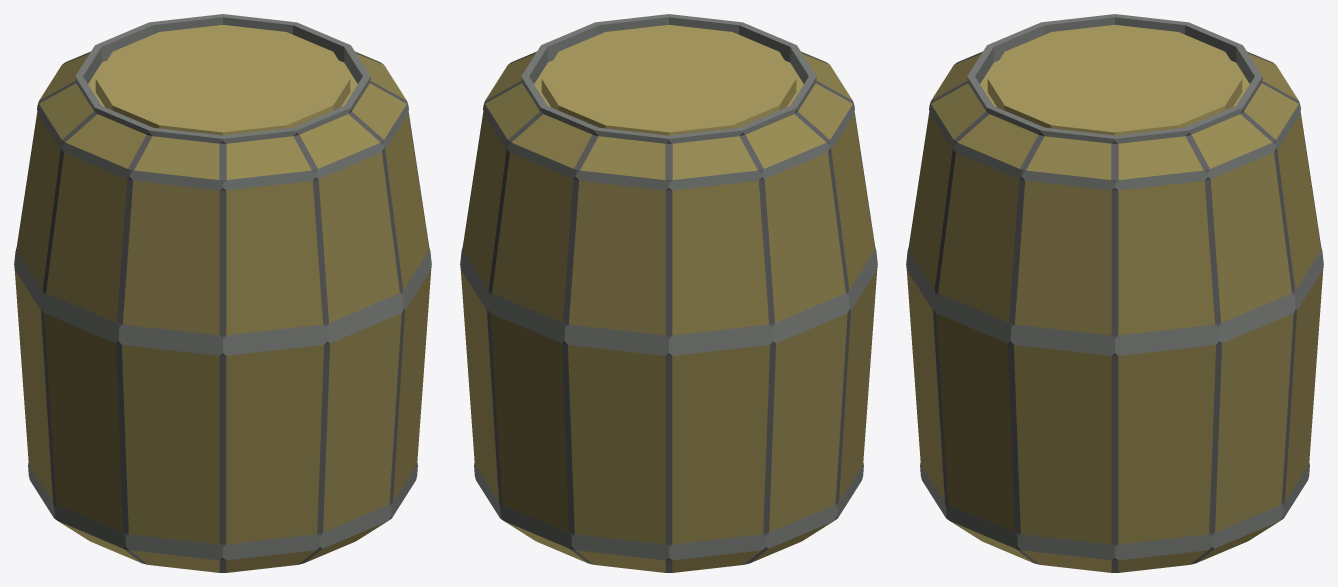
Rendered from barrel.fbx.
3 views of the same model, side by side, from view 1: azimuth 30°, elevation 25°; view 2: azimuth 150°, elevation 25°; view 3: azimuth 270°, elevation 25° (orthographic).
Visible parts, largest first — view 1: Circle.001; view 2: Circle.001; view 3: Circle.001.
Boxes of the visible parts, x1,y1,x2,y2 form: Circle.001: (14,14,431,572); Circle.001: (460,14,877,572); Circle.001: (906,14,1323,572).
Bounding box in the file's own units: 0.6695 × 0.7617 × 0.6695.
